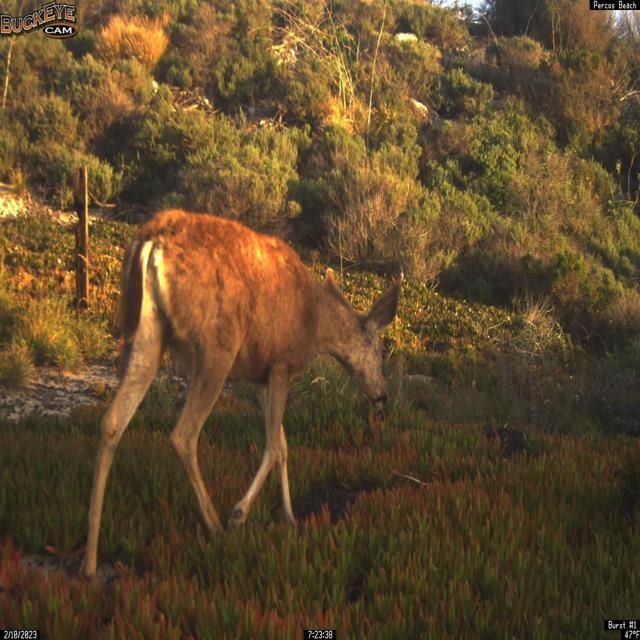deer: (78, 209, 405, 583)
